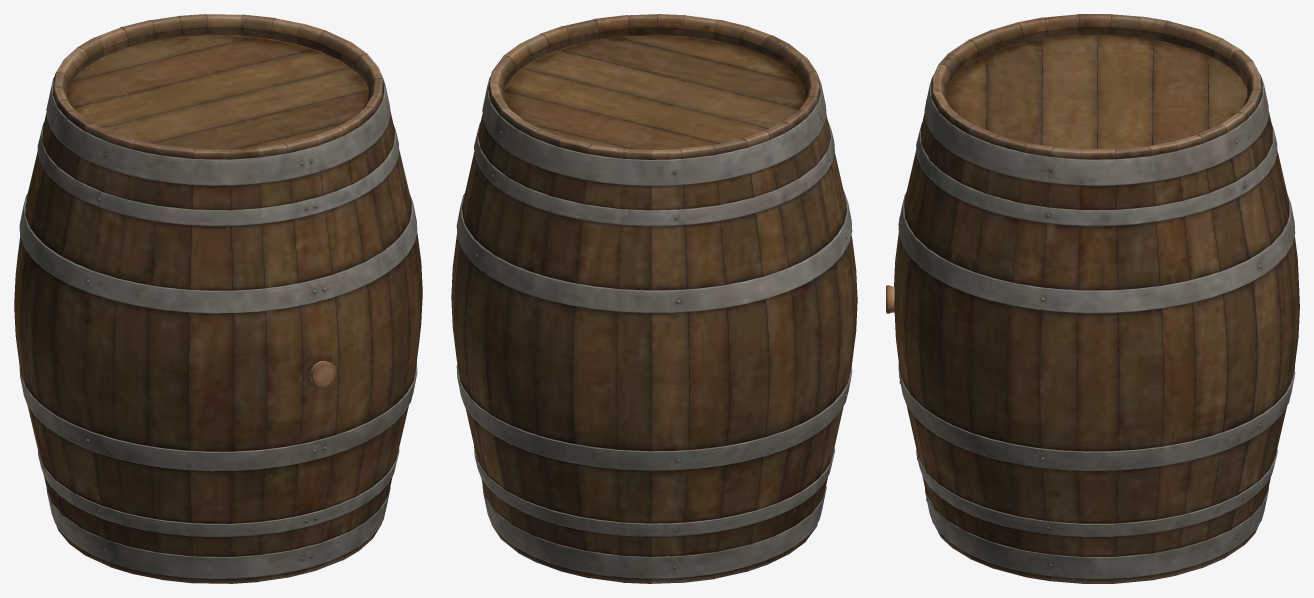
The model's file is wine_barrel_01.glb.
3 renders of one model, left to right at view 1: azimuth 30°, elevation 25°; view 2: azimuth 150°, elevation 25°; view 3: azimuth 270°, elevation 25°, orthographic.
Parts seen in each view (by area): view 1: wine_barrel_01, wine_barrel_01_Lid, wine_barrel_01_bung; view 2: wine_barrel_01, wine_barrel_01_Lid; view 3: wine_barrel_01, wine_barrel_01_Lid.
Part boxes in pixels (x1,y1,x2,y2): wine_barrel_01: (14, 14, 422, 583); wine_barrel_01_Lid: (67, 35, 368, 149); wine_barrel_01_bung: (310, 361, 336, 388); wine_barrel_01: (451, 14, 857, 583); wine_barrel_01_Lid: (503, 35, 805, 152); wine_barrel_01: (894, 14, 1299, 583); wine_barrel_01_Lid: (946, 35, 1247, 149).
Bounding box in the file's own units: 0.7419 × 0.8713 × 0.756.
1 material, 1 textured.
